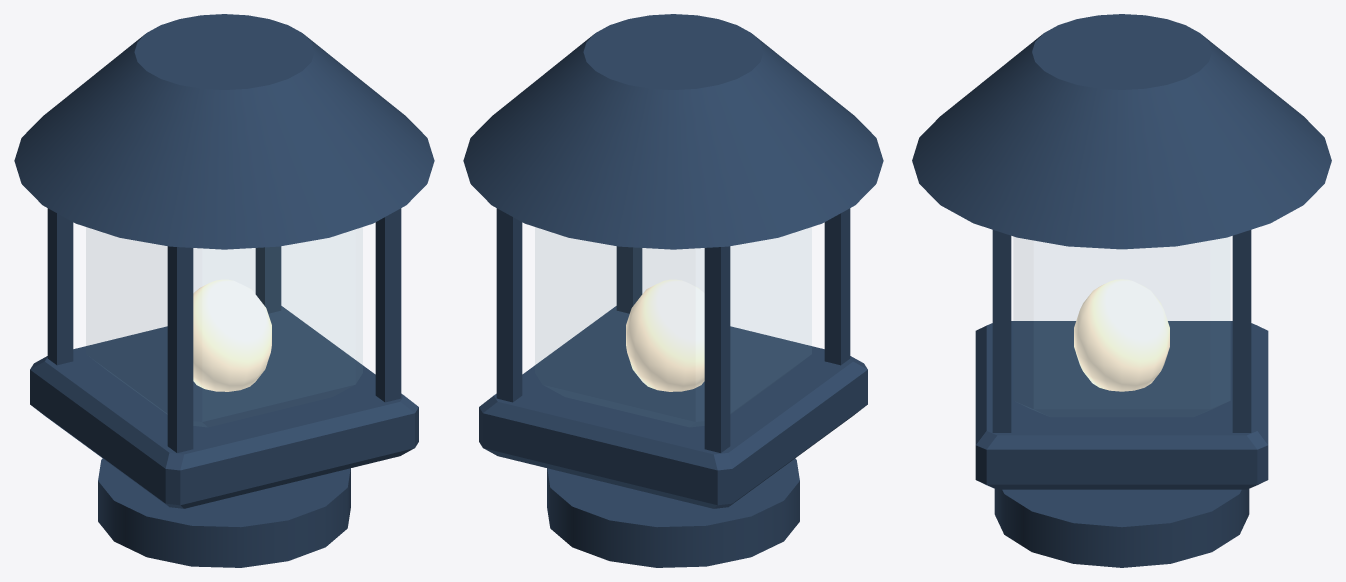
Rendered from lantern.glb.
3 views of the same model, side by side, from view 1: azimuth 30°, elevation 25°; view 2: azimuth 150°, elevation 25°; view 3: azimuth 270°, elevation 25° (orthographic).
Parts seen in each view (by area): view 1: _MeshInstance3D_1223, _MeshInstance3D_1229, _MeshInstance3D_1221, _MeshInstance3D_1230, _MeshInstance3D_1225, _MeshInstance3D_1227, _MeshInstance3D_1224, _MeshInstance3D_1226; view 2: _MeshInstance3D_1223, _MeshInstance3D_1229, _MeshInstance3D_1221, _MeshInstance3D_1230, _MeshInstance3D_1224, _MeshInstance3D_1226, _MeshInstance3D_1225, _MeshInstance3D_1227; view 3: _MeshInstance3D_1223, _MeshInstance3D_1229, _MeshInstance3D_1221, _MeshInstance3D_1230, _MeshInstance3D_1226, _MeshInstance3D_1227.
Part boxes in pixels (box(x1,y1,x2,y2)): _MeshInstance3D_1223: box(14, 14, 434, 249); _MeshInstance3D_1229: box(30, 306, 418, 508); _MeshInstance3D_1221: box(98, 458, 350, 567); _MeshInstance3D_1230: box(193, 279, 271, 391); _MeshInstance3D_1225: box(167, 246, 193, 452); _MeshInstance3D_1227: box(375, 208, 401, 402); _MeshInstance3D_1224: box(47, 208, 73, 365); _MeshInstance3D_1226: box(255, 246, 281, 313); _MeshInstance3D_1223: box(463, 14, 883, 249); _MeshInstance3D_1229: box(479, 306, 867, 508); _MeshInstance3D_1221: box(547, 458, 799, 567); _MeshInstance3D_1230: box(626, 279, 704, 391); _MeshInstance3D_1224: box(704, 246, 730, 452); _MeshInstance3D_1226: box(496, 208, 522, 402); _MeshInstance3D_1225: box(824, 208, 850, 365); _MeshInstance3D_1227: box(616, 246, 642, 313); _MeshInstance3D_1223: box(912, 14, 1331, 249); _MeshInstance3D_1229: box(975, 321, 1268, 489); _MeshInstance3D_1221: box(994, 489, 1249, 567); _MeshInstance3D_1230: box(1074, 279, 1169, 391); _MeshInstance3D_1226: box(1232, 230, 1251, 432); _MeshInstance3D_1227: box(992, 230, 1011, 432).
Size of the model in its own units: 0.56 by 0.68 by 0.56.
